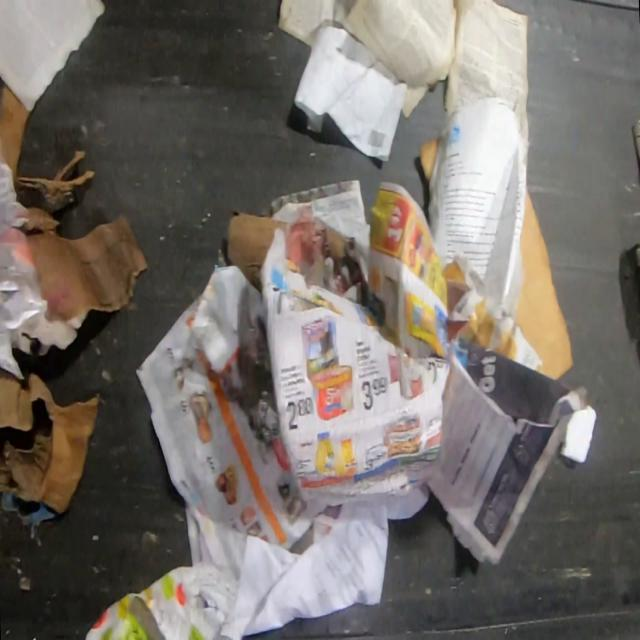cardboard: (0, 367, 100, 516), (28, 204, 150, 321), (514, 182, 574, 382), (225, 208, 287, 297), (418, 136, 443, 185)
